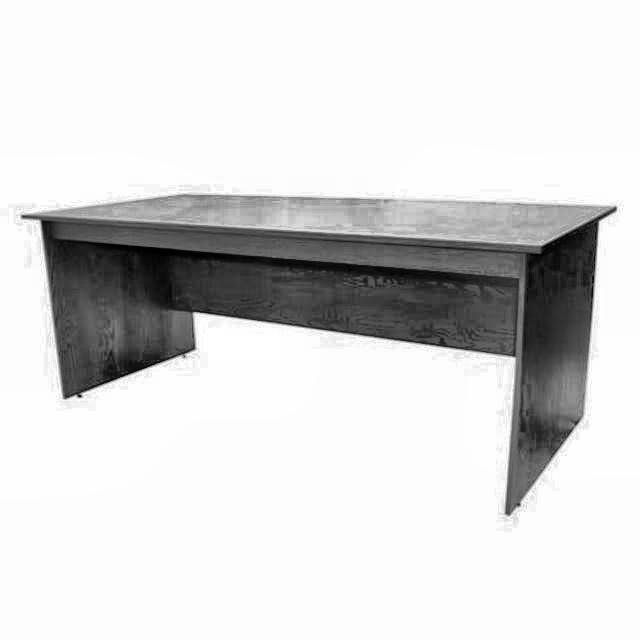mesa: (18, 161, 624, 530)
